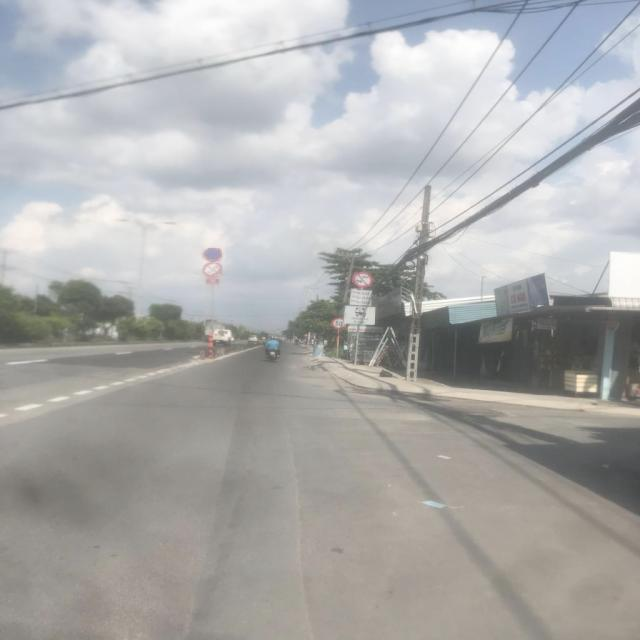107-cam-oto-khach-va-oto-tai: (353, 272, 373, 288)
